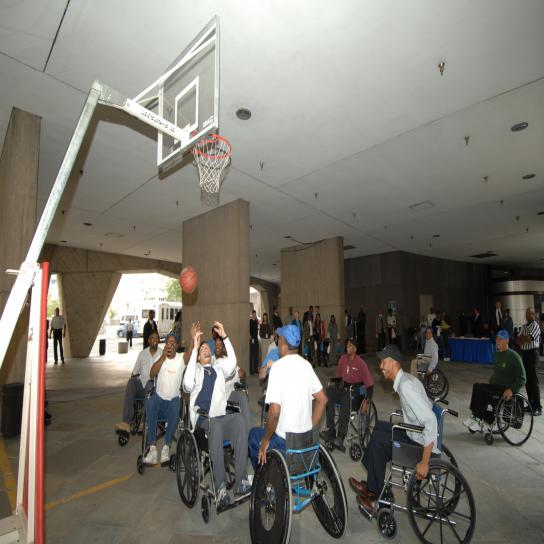basketball-hoop: (194, 130, 233, 196)
